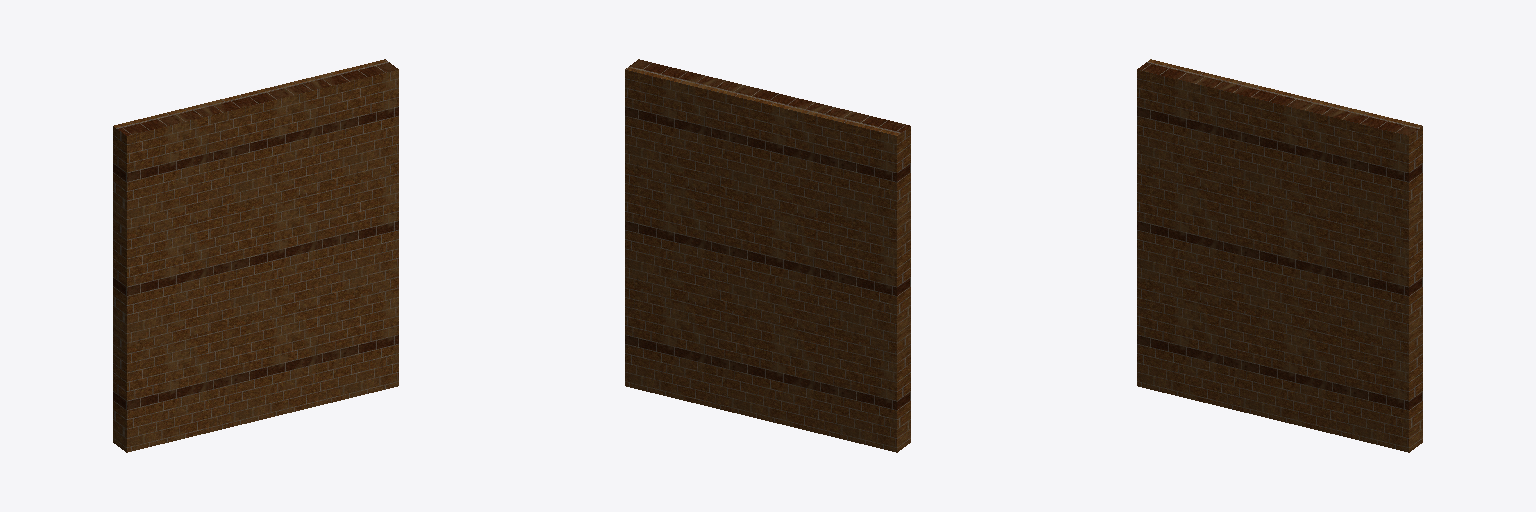
3 views of the same model, side by side, from view 1: azimuth 30°, elevation 25°; view 2: azimuth 150°, elevation 25°; view 3: azimuth 330°, elevation 25° (orthographic).
Parts seen in each view (by area): view 1: ___; view 2: ___; view 3: ___.
Boxes of the visible parts, box(x1,y1,x2,y2) form: ___: box(113, 59, 398, 452); ___: box(625, 59, 910, 452); ___: box(1137, 59, 1422, 452).
Size of the model in its own units: 500 by 555 by 44.58.
1 materials, 1 textured.